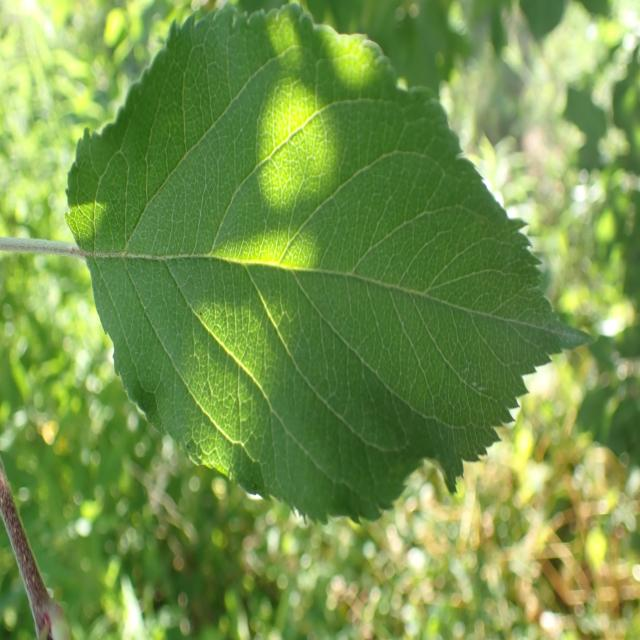healthy: (65, 3, 594, 528)
